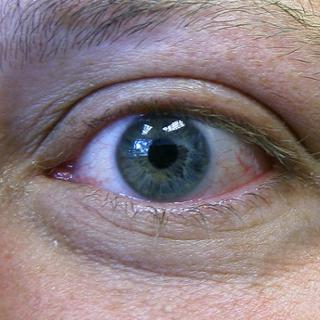iris: (114, 107, 211, 204)
